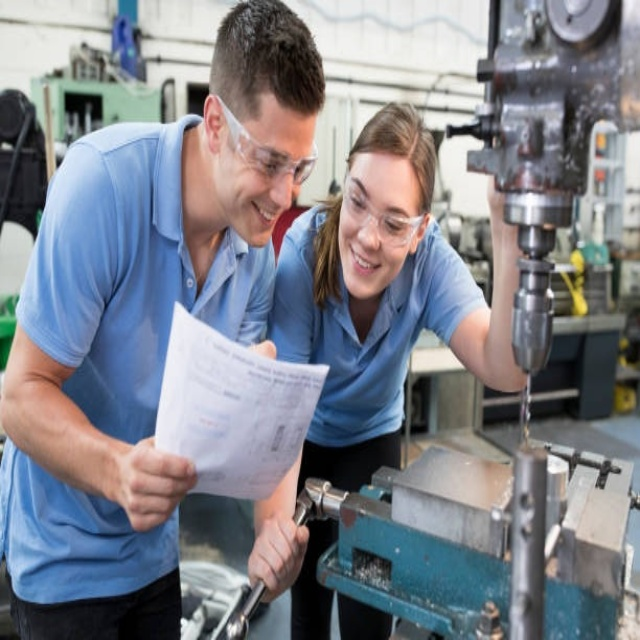Gafas: (215, 97, 317, 186), (344, 171, 426, 247)
Sin_guantes: (116, 436, 201, 532), (247, 508, 311, 601)
Sin_mascara: (342, 243, 383, 298), (241, 193, 280, 248)
